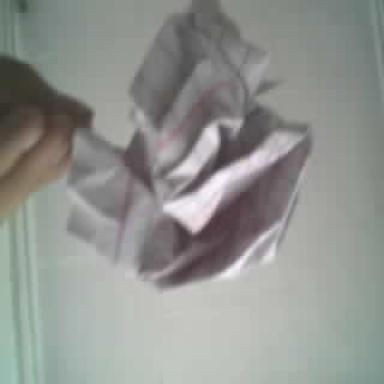paper: (68, 0, 311, 286)
